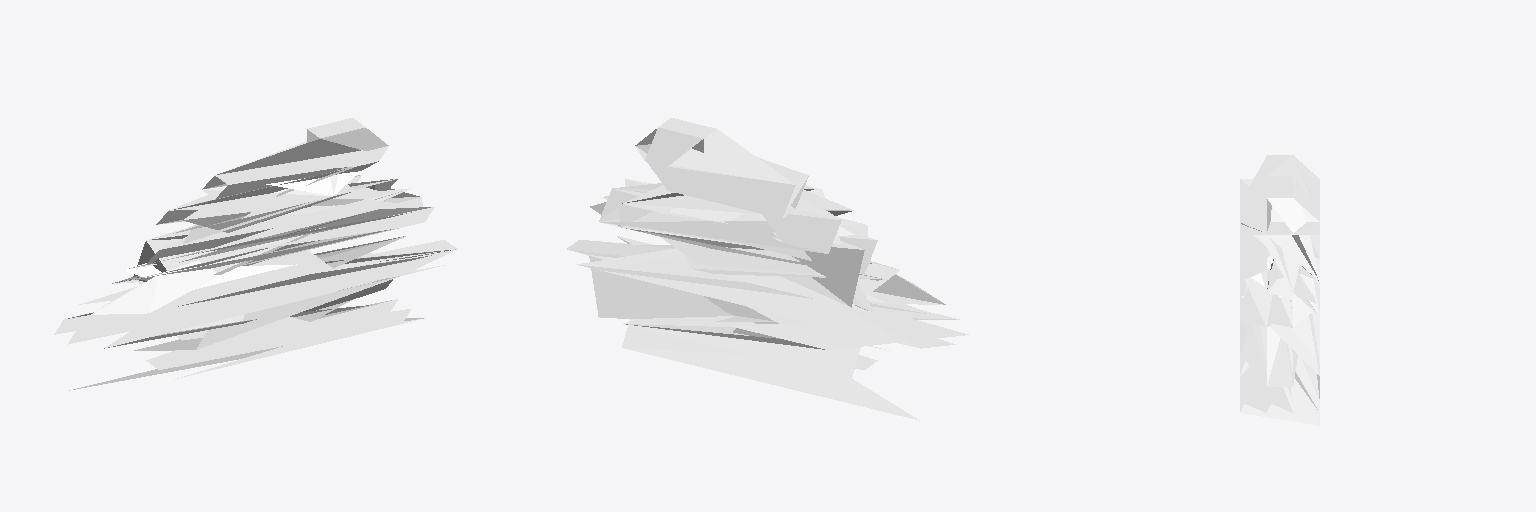
The model's file is fly_guy_1.obj.
3 renders of one model, left to right at view 1: azimuth 30°, elevation 25°; view 2: azimuth 150°, elevation 25°; view 3: azimuth 270°, elevation 25°, orthographic.
Size of the model in its own units: 17 by 9 by 3.